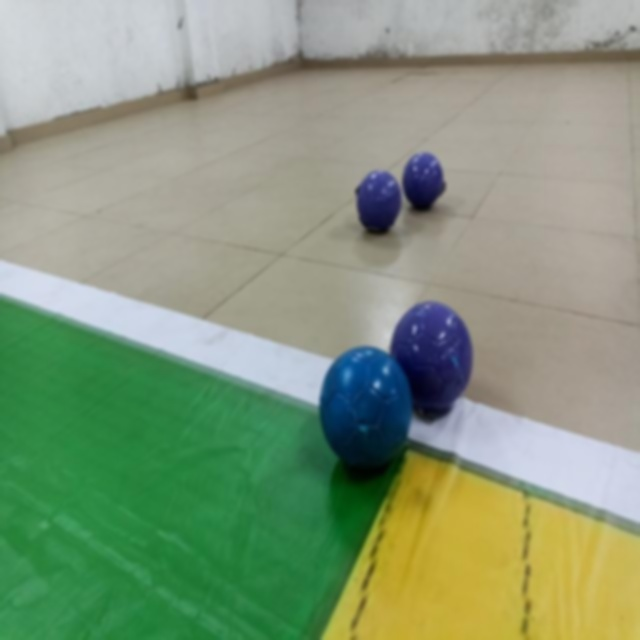purple_ball: (320, 349, 406, 465), (395, 308, 469, 416), (358, 172, 398, 238), (409, 155, 444, 209)
